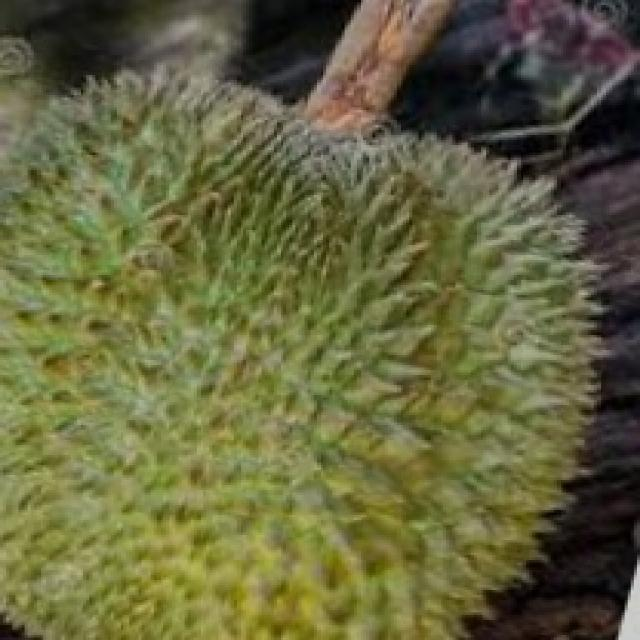fruit: (19, 10, 366, 412), (277, 267, 640, 640)
